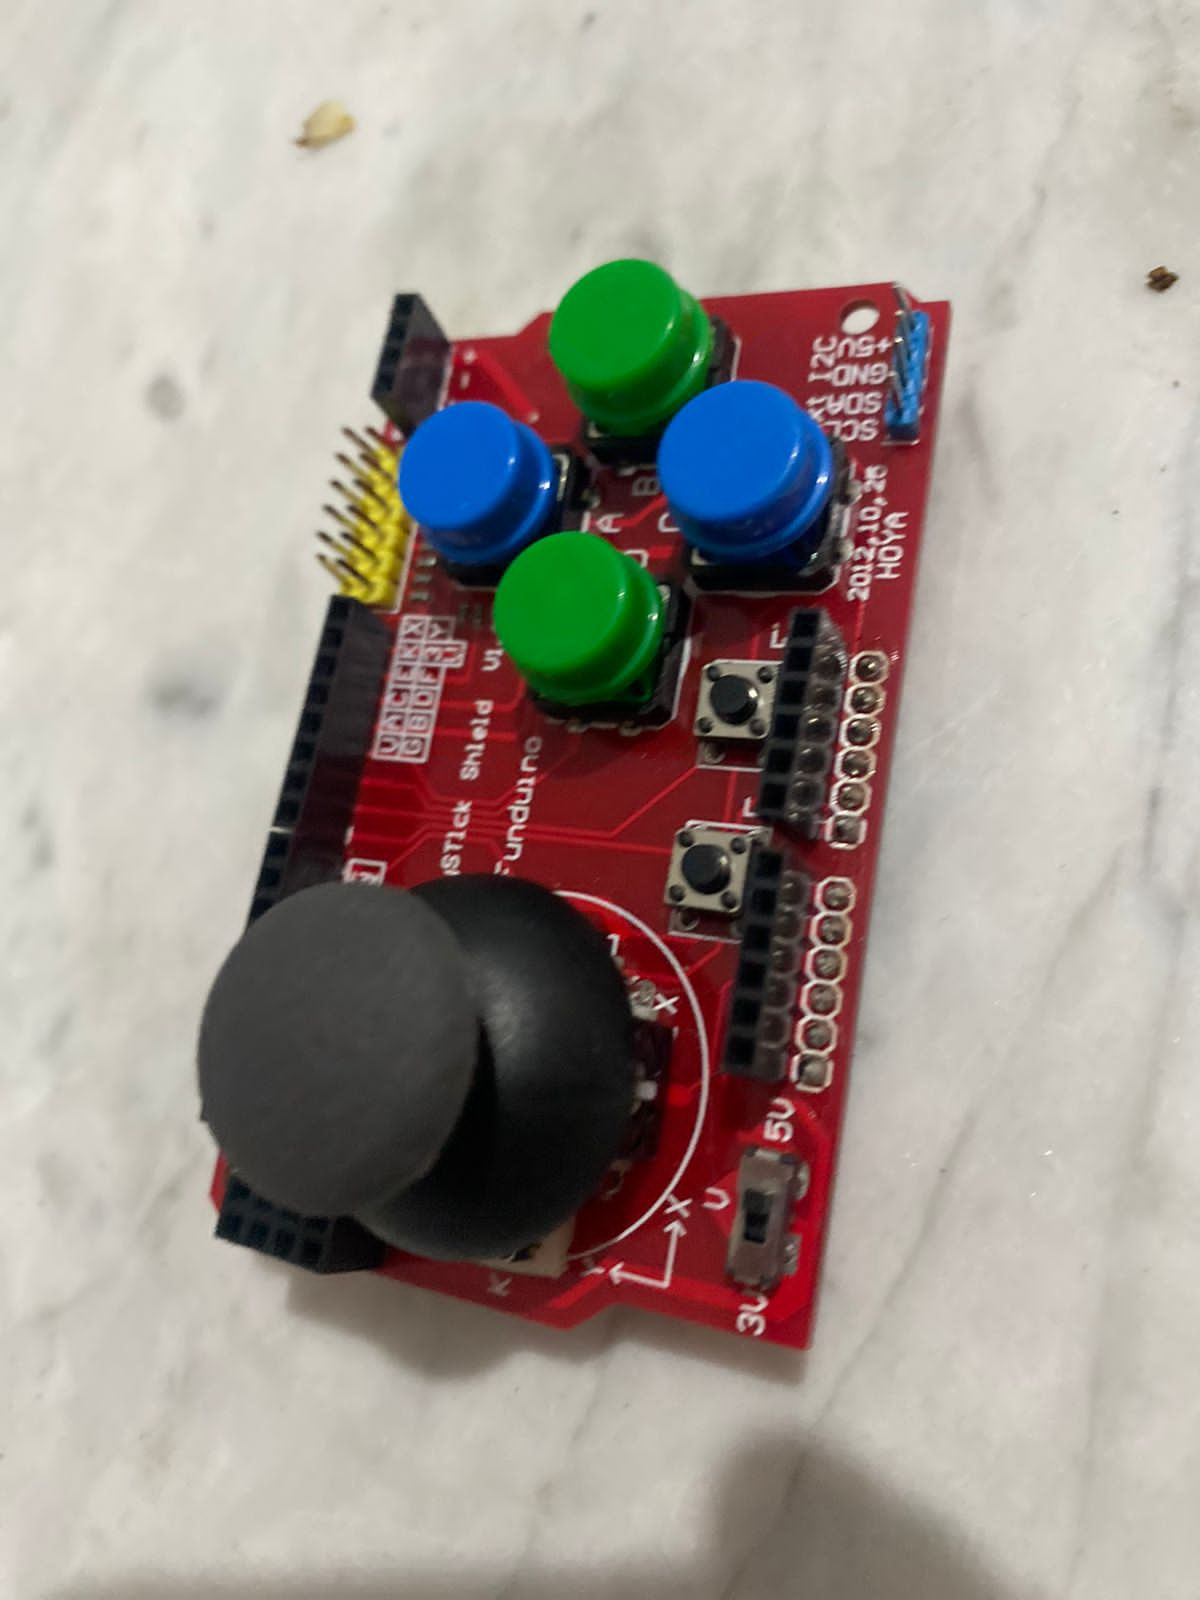Clavier-Joystick: (192, 253, 961, 1353)
